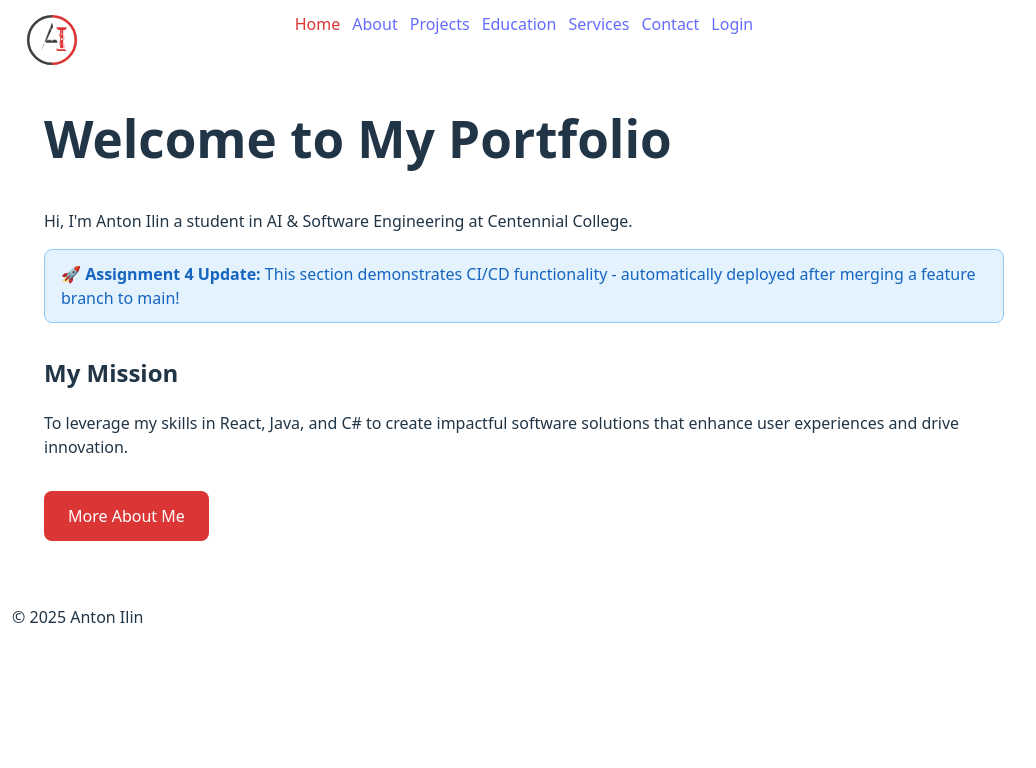
Test: Portfolio App E2E Tests › Navigation Tests › navigates to Projects page
Click the link "Projects" at (440, 24), box [410, 12, 470, 36]
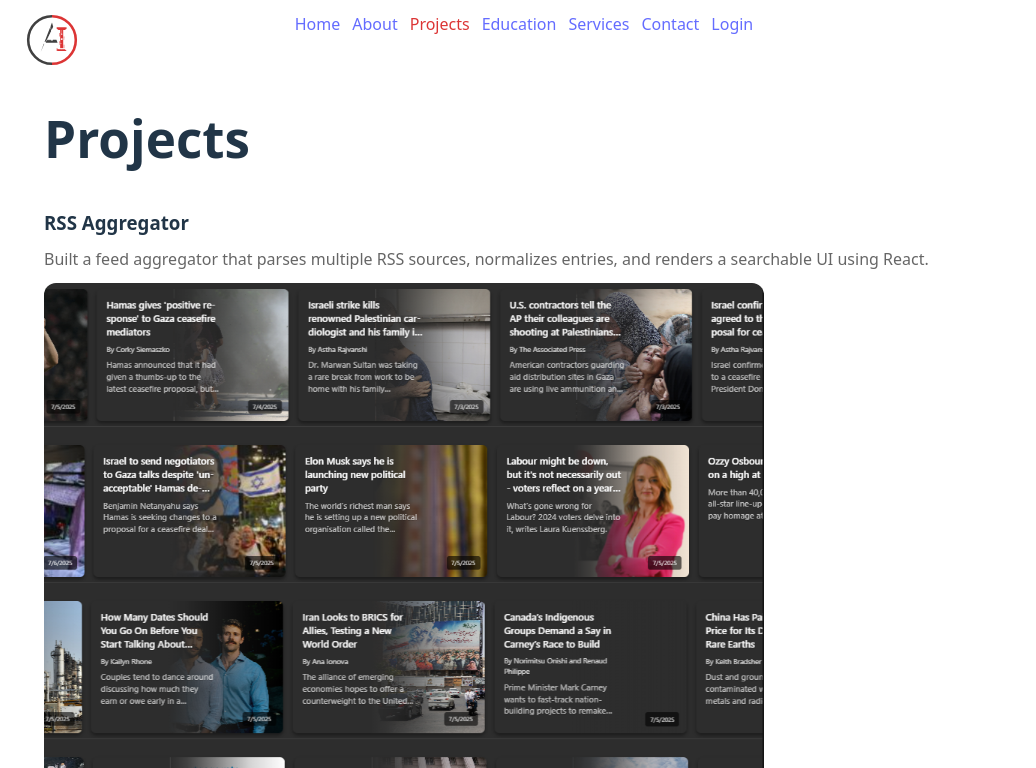
Now the heading "Projects" is shown, box [44, 104, 250, 174]
